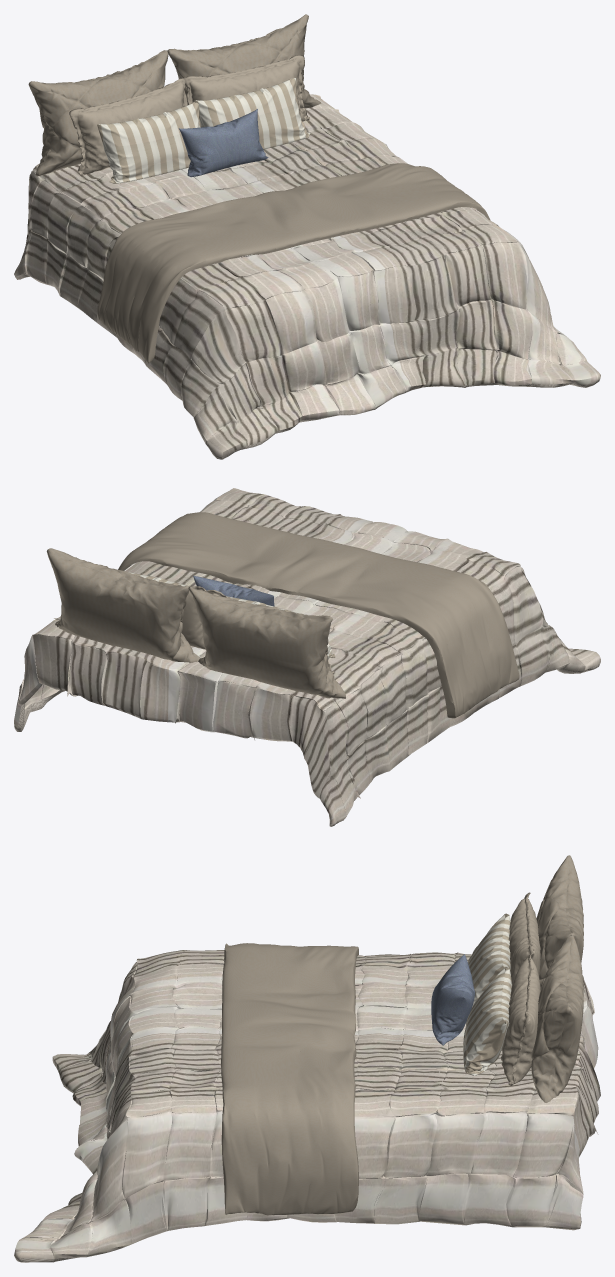
The model's file is objaverse-bed-0101.optimized.glb.
The picture shows the model from 3 angles, top to bottom: view 1: azimuth 30°, elevation 25°; view 2: azimuth 150°, elevation 25°; view 3: azimuth 270°, elevation 25°; orthographic projection. The views are drawn at different scales.
Parts seen in each view (by area): view 1: Object_9, Object_4, Object_10, Object_7, Object_2; view 2: Object_9, Object_4, Object_7, Object_2; view 3: Object_9, Object_4, Object_10, Object_7, Object_2.
Part boxes in pixels (box(x1,y1,x2,y2)): Object_9: box(14, 94, 600, 459); Object_4: box(28, 14, 490, 363); Object_10: box(97, 78, 310, 183); Object_7: box(69, 55, 309, 176); Object_2: box(179, 109, 268, 177); Object_9: box(14, 488, 600, 826); Object_4: box(46, 512, 519, 718); Object_7: box(96, 564, 334, 673); Object_2: box(193, 575, 274, 606); Object_9: box(14, 950, 600, 1262); Object_4: box(221, 855, 583, 1215); Object_10: box(463, 913, 511, 1075); Object_7: box(501, 892, 540, 1085); Object_2: box(431, 954, 474, 1045).
Bounding box in the file's own units: 2.28 × 1.2 × 2.75.
6 materials, 6 textured.
